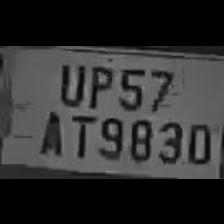0: (183, 116, 212, 164)
3: (154, 116, 182, 164)
5: (113, 62, 144, 108)
7: (144, 65, 176, 111)
8: (125, 113, 153, 162)
9: (94, 110, 124, 160)
A: (34, 106, 64, 156)
P: (84, 60, 114, 108)
T: (64, 110, 94, 156)
U: (53, 56, 85, 104)
